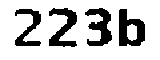2: (43, 5, 83, 52), (10, 5, 41, 52)
3: (85, 7, 113, 50)
b: (115, 4, 146, 53)
